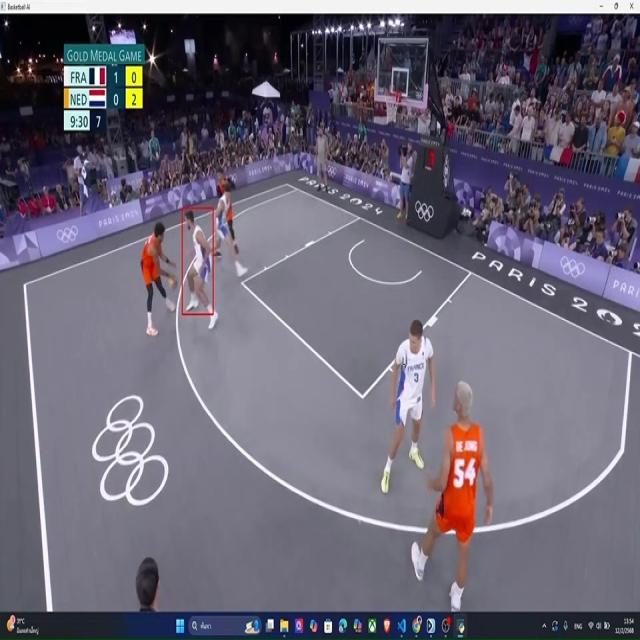hoop: (382, 87, 403, 126)
